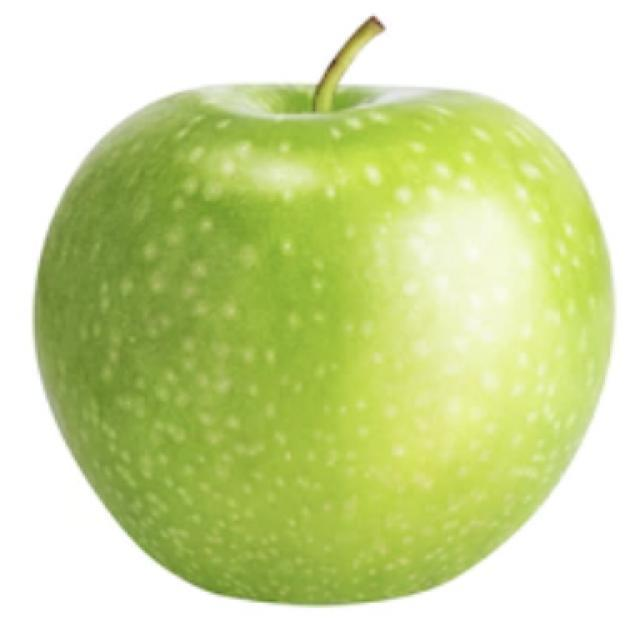Fresh Apple: (30, 76, 605, 612)
